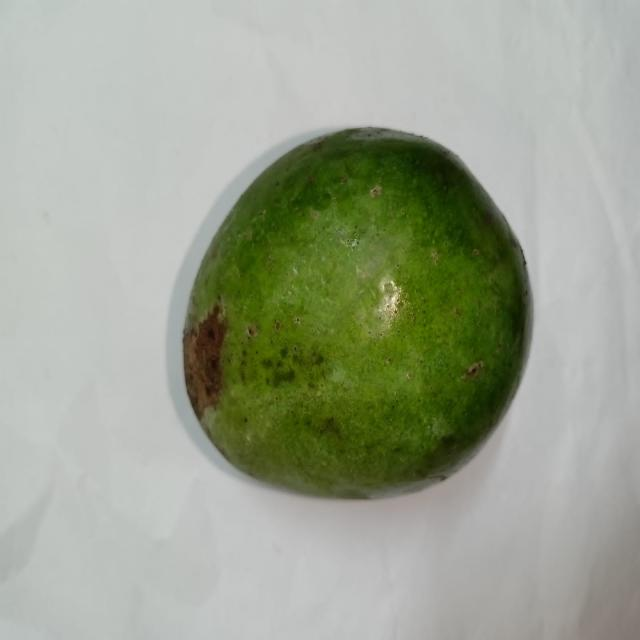rotten_mango: (180, 126, 530, 501)
